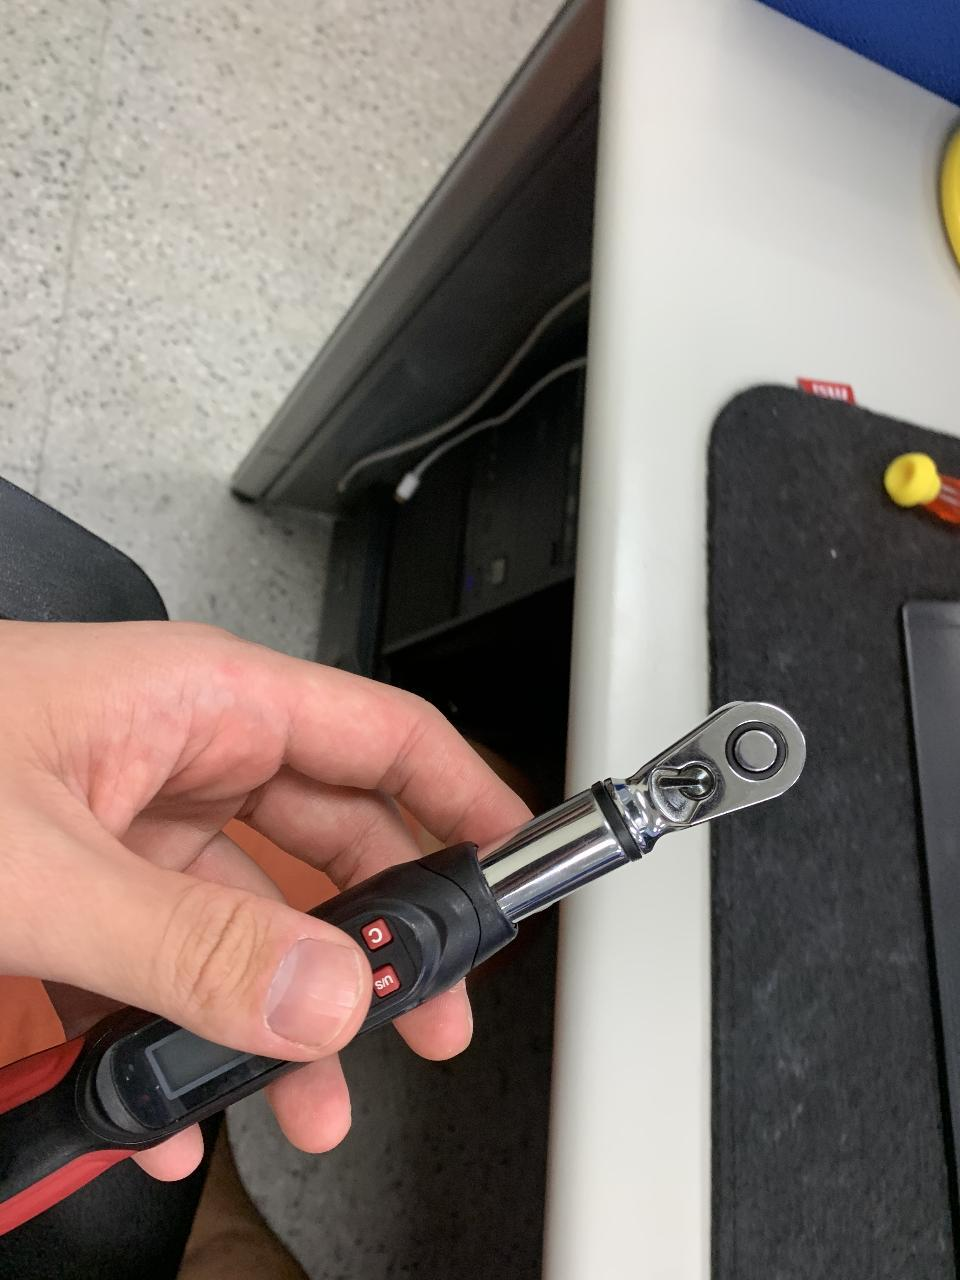Tool: (605, 699, 813, 839)
